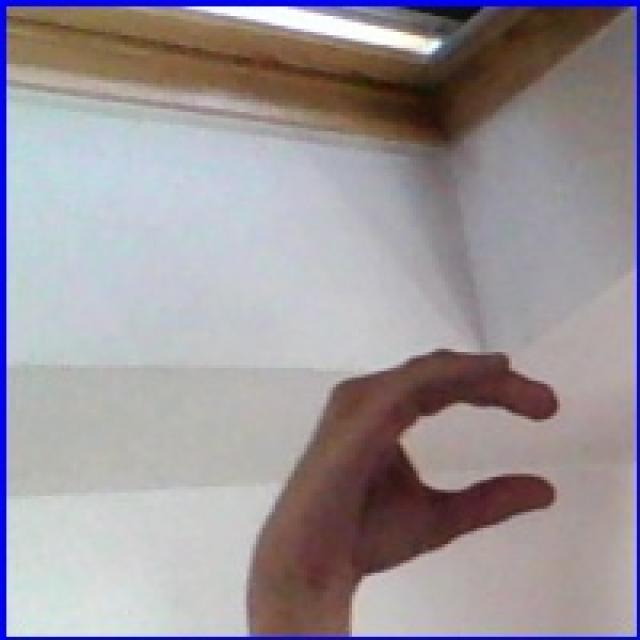Letra C: (192, 312, 579, 610)
